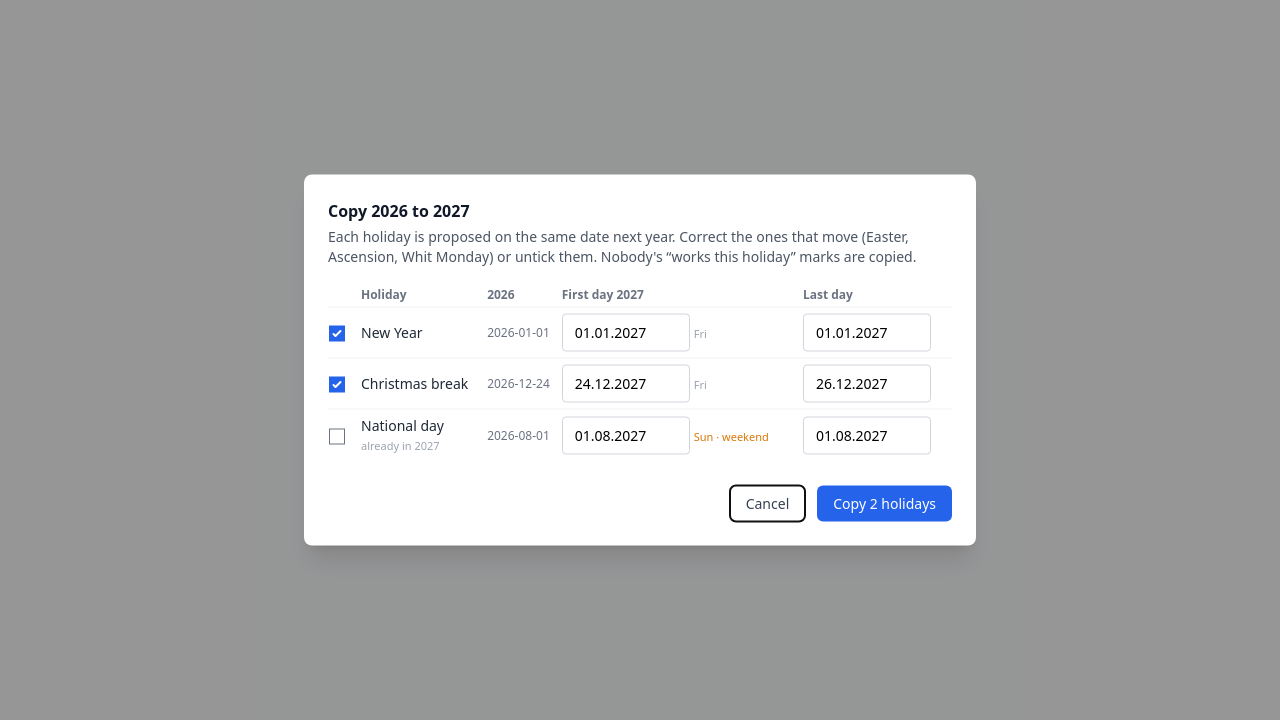
Test: CopyYearDialog › does not drag the last day back when it was set before the first
Expected: the checkbox named "Copy New Year" is shown, left=329, top=326, right=345, bottom=342
Replace the text in the 4th field with "20.12.2027" at (867, 384), box left=803, top=364, right=931, bottom=402
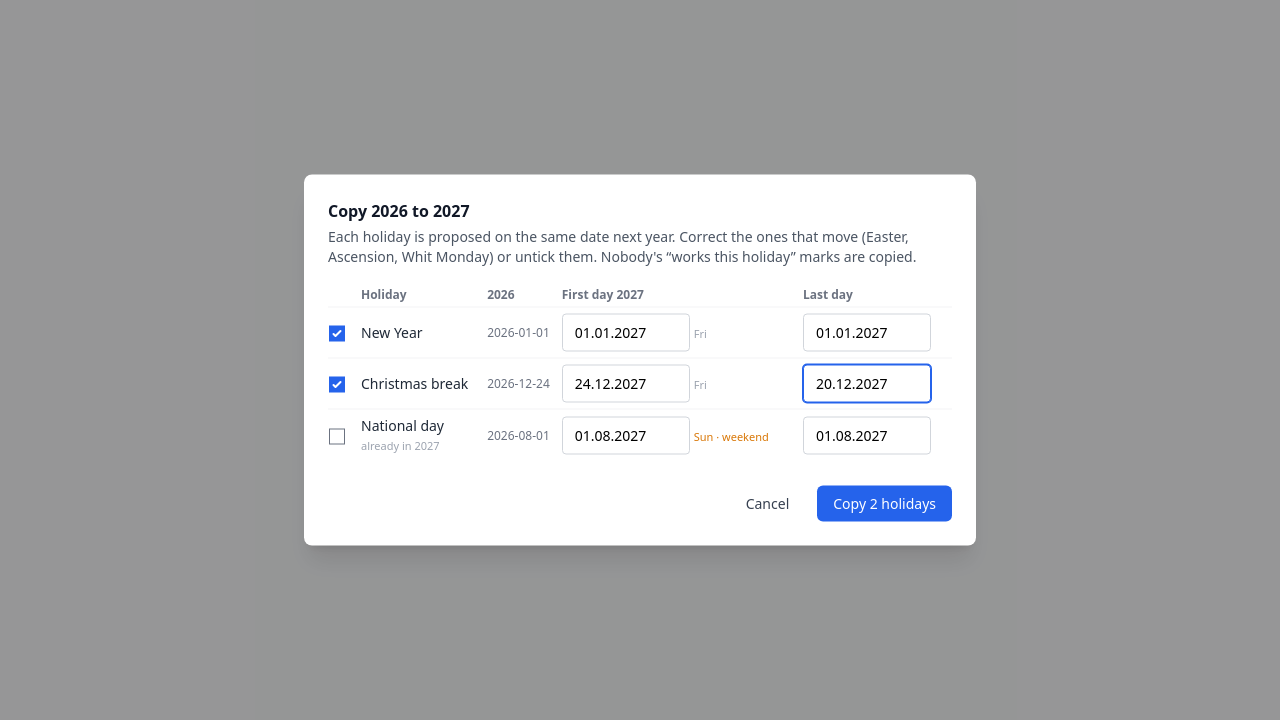
Press Tab
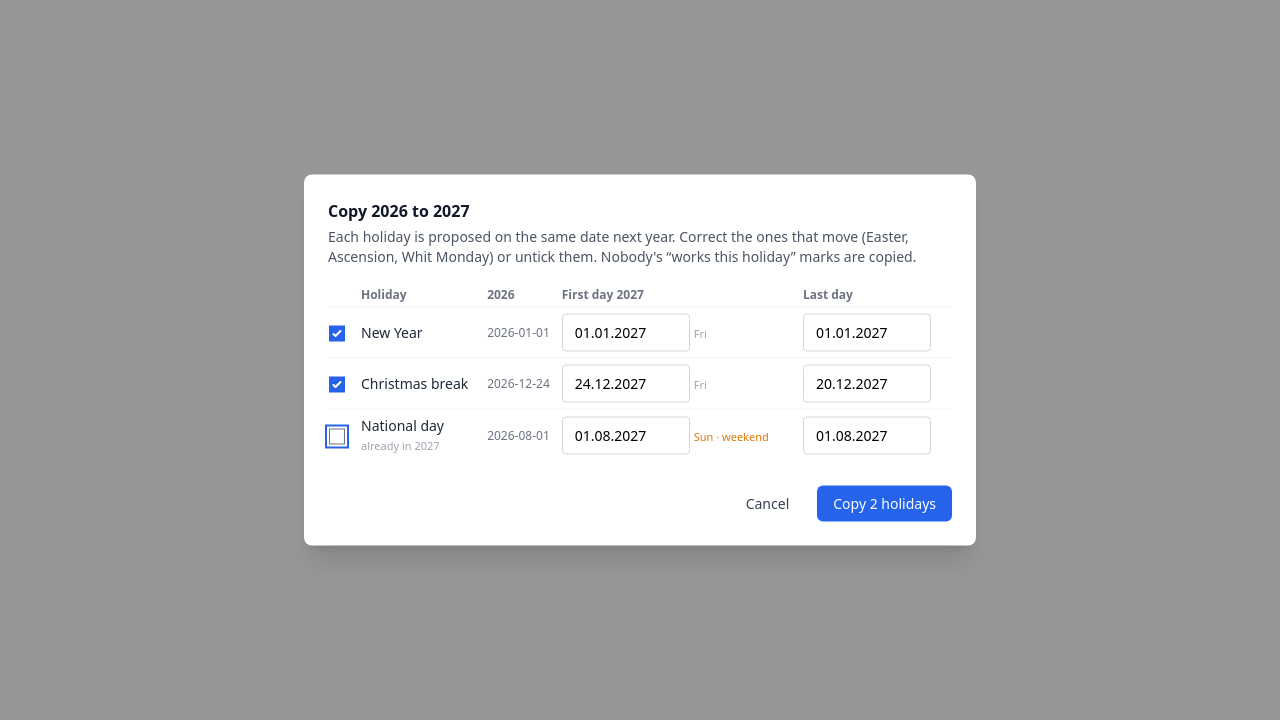
Replace the text in the 3rd field with "27.12.2027" at (626, 384), box left=562, top=364, right=690, bottom=402
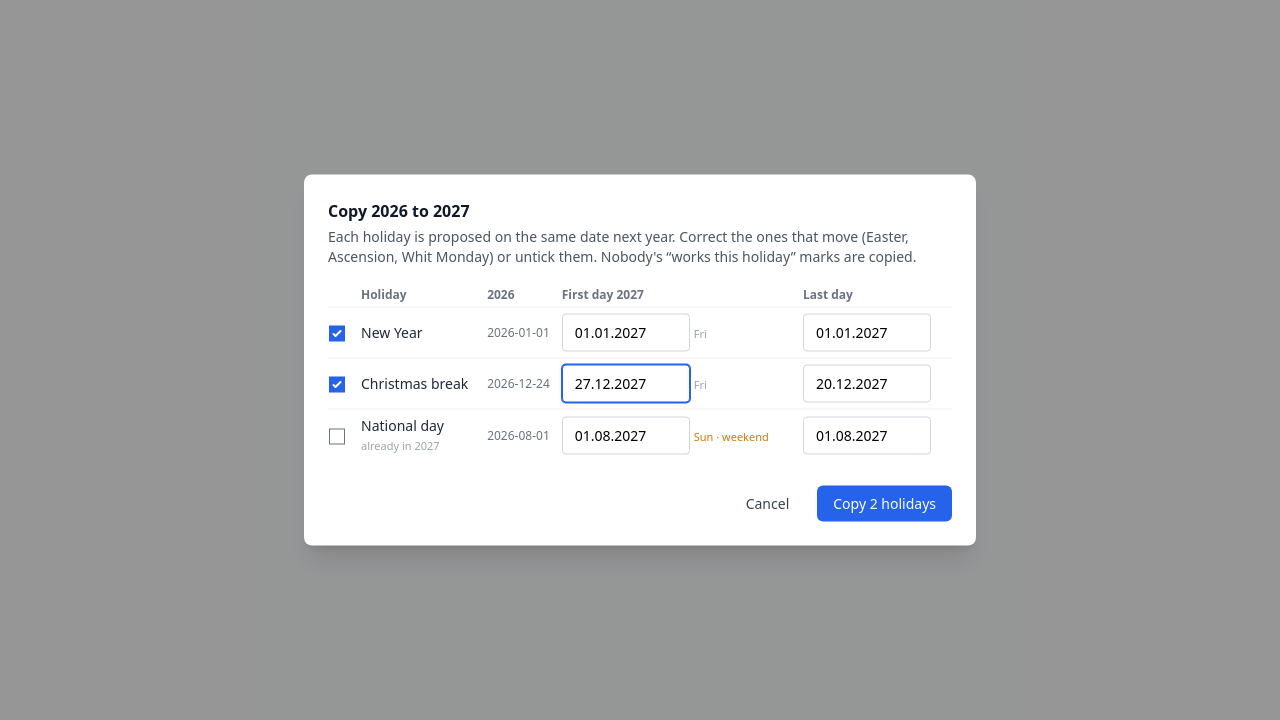
Press Tab
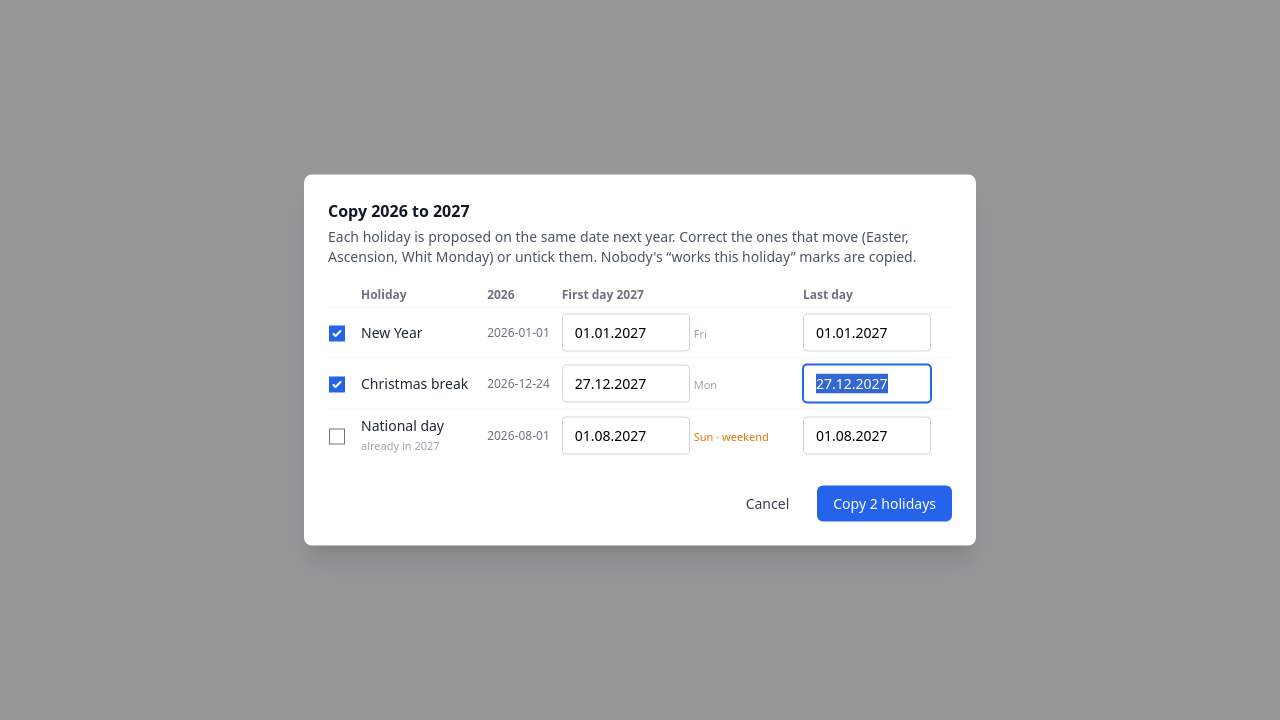
Expected: the 4th field holds "27.12.2027", left=803, top=364, right=931, bottom=402
